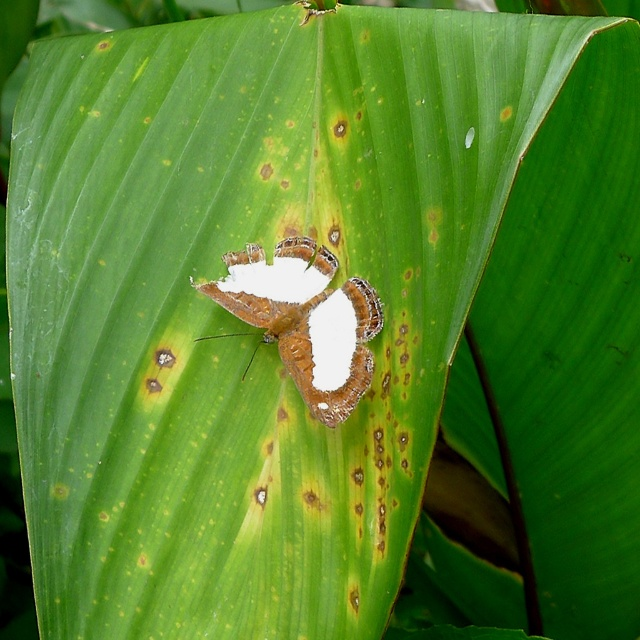Moths and butterflies: (191, 233, 386, 431)
